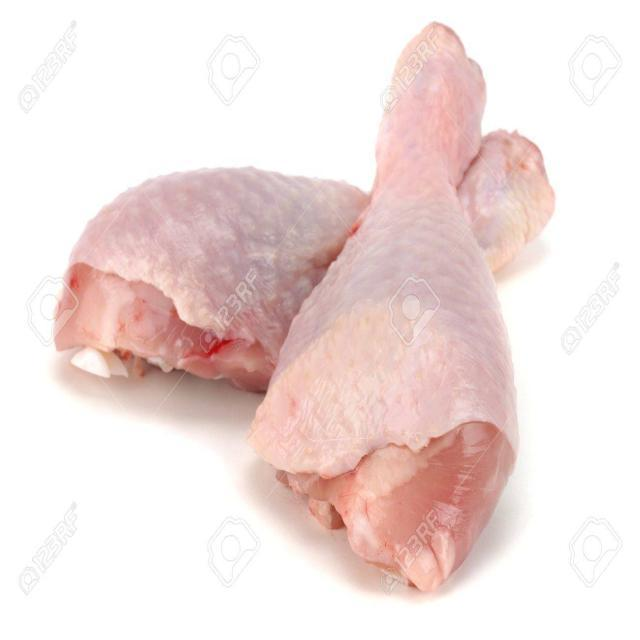leg: (268, 25, 514, 565), (53, 121, 567, 378)
